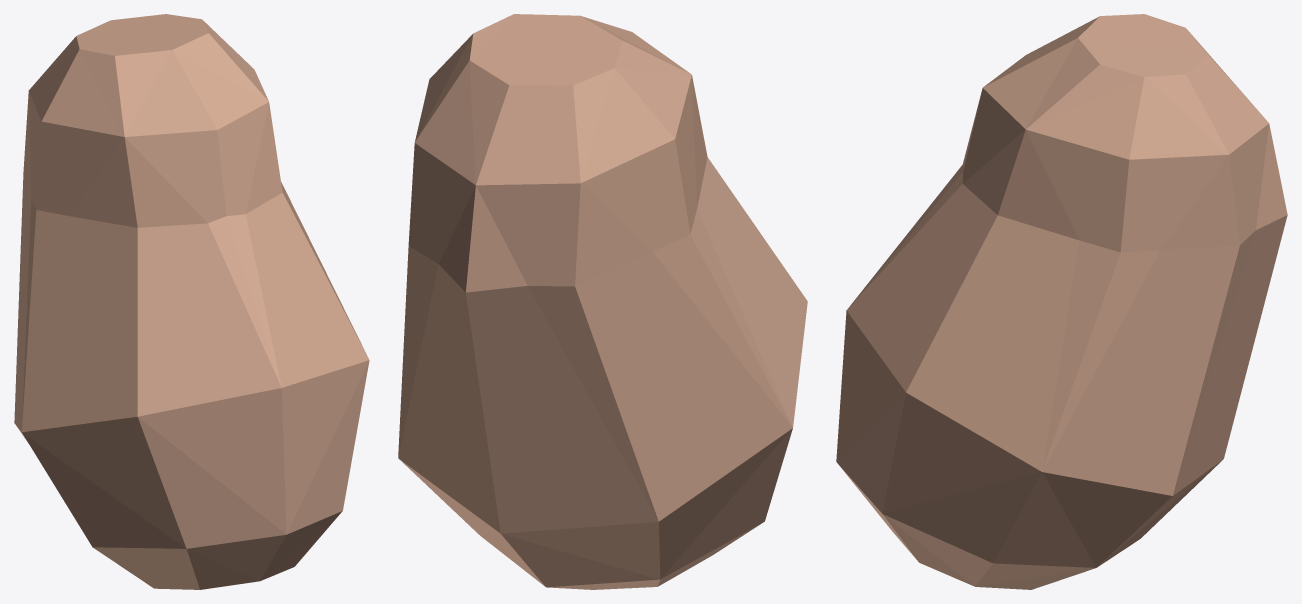
Rendered from potato.fbx.
3 renders of one model, left to right at view 1: azimuth 30°, elevation 25°; view 2: azimuth 150°, elevation 25°; view 3: azimuth 270°, elevation 25°, orthographic. The views are drawn at different scales.
Parts seen in each view (by area): view 1: potato; view 2: potato; view 3: potato.
Boxes of the visible parts, left/top/right/bottom form: potato: left=14, top=14, right=369, bottom=589; potato: left=398, top=14, right=807, bottom=589; potato: left=836, top=14, right=1287, bottom=589.
Size of the model in its own units: 19.37 by 27.96 by 21.39.
